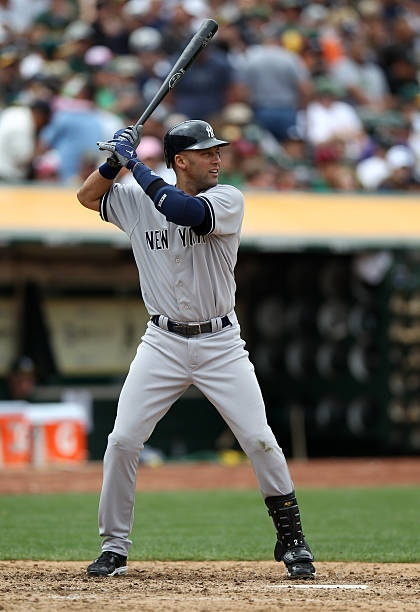bita: (101, 19, 220, 164)
